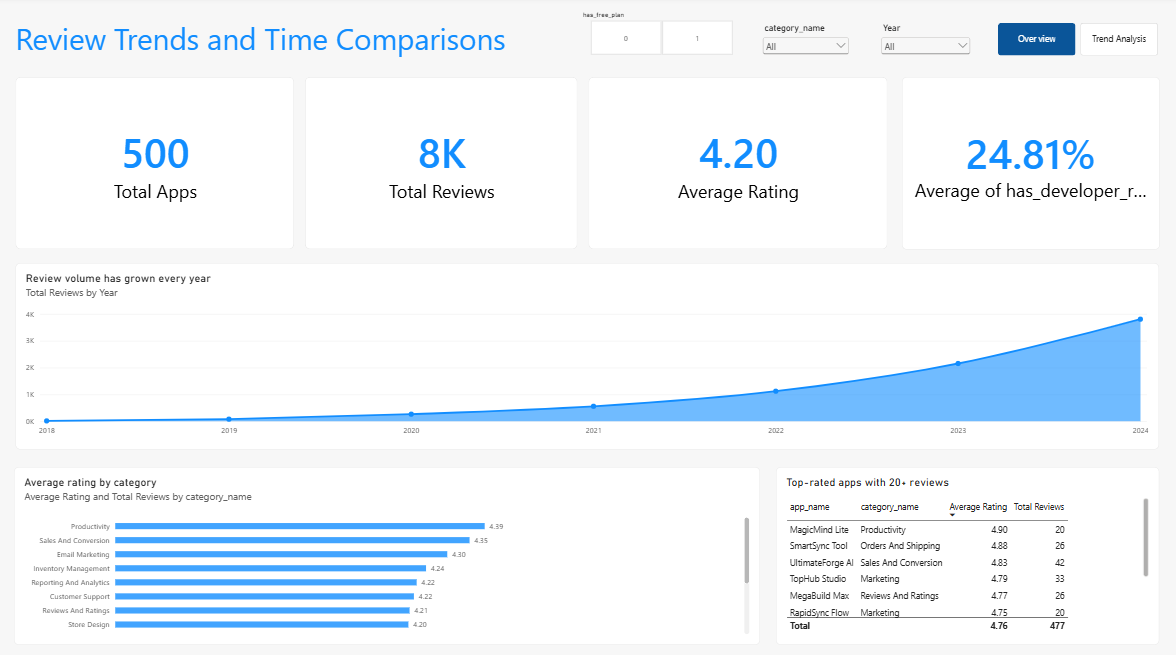

The dashboard page shown, as its layout file describes it:
{"tool":"powerbi","page":{"name":"Over view","canvas":[1920,1080],"ordinal":0},"visuals":[{"type":"cardVisual","fields":{"Data":["apps.Average Rating"]},"box":[960,131.7,486.7,280],"z":0},{"type":"textbox","box":[27.5,37.5,912.5,90],"z":1000},{"type":"cardVisual","fields":{"Data":["apps.Total Reviews"]},"box":[498.3,131.7,443.3,280],"z":2000},{"type":"cardVisual","fields":{"Data":["apps.Total Apps"]},"box":[26,131,453.5,280.6],"z":3000},{"type":"card","fields":{"Values":["Avg(reviews.has_developer_reply)"]},"box":[1468.4,130.9,419.5,280.6],"z":4000},{"type":"lineChart","title":"Review volume has grown every year","fields":{"Category":["dim_date.Year"],"Y":["apps.Total Reviews"]},"box":[26.7,433.3,1860,303.3],"z":5000},{"type":"clusteredBarChart","title":"Average rating by category ","fields":{"Category":["apps.category_name"],"Y":["apps.Average Rating"]},"box":[25.5,765.4,1213.2,289.1],"z":6000},{"type":"tableEx","title":"Top-rated apps with 20+ reviews","fields":{"Values":["apps.app_name","apps.category_name","apps.Average Rating","apps.Total Reviews"]},"box":[1264.3,765.4,623.6,289.1],"z":7000},{"type":"slicer","fields":{"Values":["dim_date.Year"]},"box":[1430,45,155,83.3],"z":8000},{"type":"slicer","fields":{"Values":["apps.category_name"]},"box":[1237.5,45,150,67.5],"z":9000},{"type":"slicer","fields":{"Values":["apps.has_free_plan"]},"box":[942.5,25,270,72.5],"z":10000},{"type":"pageNavigator","box":[1625,45,260,53.3],"z":11000}]}

Visuals, with their boxes in screenshot pixels (x1, y1, x2, y2), scaled from the page's 1920x1080 canvas onto the 1176x655 screenshot:
cardVisual - apps.Average Rating: box(588, 80, 886, 250)
textbox: box(17, 23, 576, 77)
cardVisual - apps.Total Reviews: box(305, 80, 577, 250)
cardVisual - apps.Total Apps: box(16, 79, 294, 250)
card - Avg(reviews.has_developer_reply): box(899, 79, 1156, 250)
"Review volume has grown every year" lineChart: box(16, 263, 1156, 447)
"Average rating by category " clusteredBarChart: box(16, 464, 759, 640)
"Top-rated apps with 20+ reviews" tableEx: box(774, 464, 1156, 640)
slicer - dim_date.Year: box(876, 27, 971, 78)
slicer - apps.category_name: box(758, 27, 850, 68)
slicer - apps.has_free_plan: box(577, 15, 743, 59)
pageNavigator: box(995, 27, 1155, 60)
